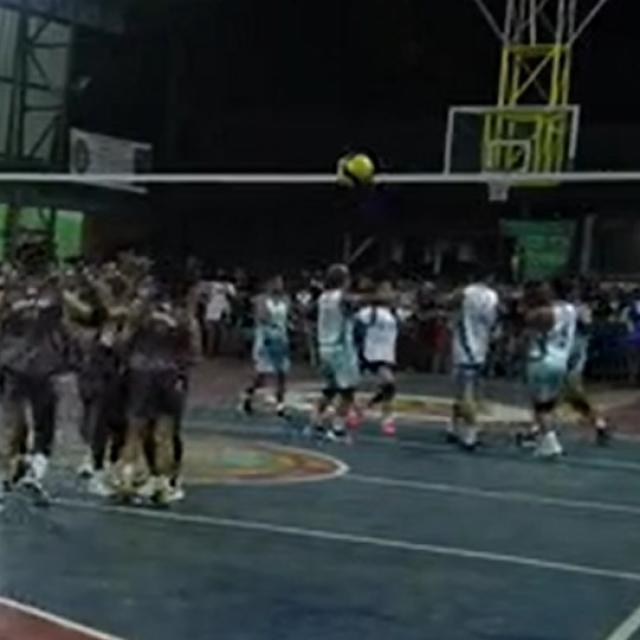volleyball: (337, 152, 375, 190)
